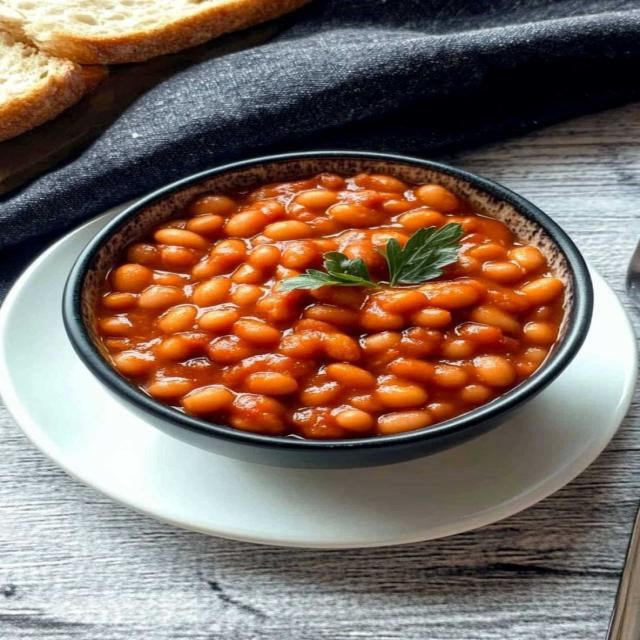beans: (96, 172, 563, 440), (420, 282, 478, 309), (376, 380, 428, 408), (182, 387, 233, 415), (470, 305, 520, 333), (207, 336, 255, 364), (474, 355, 515, 387), (486, 284, 531, 313), (399, 327, 442, 357), (256, 291, 297, 322), (234, 319, 281, 346), (378, 411, 432, 434), (326, 363, 376, 387), (344, 239, 384, 269), (376, 290, 426, 314), (112, 264, 153, 293), (360, 305, 404, 332), (328, 204, 379, 227), (246, 372, 297, 395), (310, 287, 363, 309), (415, 185, 458, 212), (520, 278, 563, 305), (225, 210, 267, 237), (192, 278, 231, 307), (472, 217, 512, 245), (157, 305, 197, 333), (389, 358, 434, 382), (282, 241, 319, 270), (198, 306, 239, 332), (304, 305, 357, 325), (138, 286, 184, 309), (398, 209, 446, 231), (155, 229, 207, 249), (323, 333, 360, 361), (457, 323, 502, 346), (278, 334, 323, 357), (147, 378, 194, 400), (155, 336, 196, 361), (114, 351, 154, 376), (300, 381, 341, 405), (264, 221, 312, 241), (212, 239, 246, 267), (189, 196, 235, 216), (509, 246, 545, 271), (335, 409, 374, 432), (161, 246, 198, 270), (483, 261, 523, 283), (432, 363, 468, 387), (191, 257, 228, 280), (410, 308, 451, 328), (295, 189, 336, 209), (362, 332, 401, 353), (127, 243, 159, 268), (248, 245, 281, 269), (368, 174, 408, 193), (186, 215, 224, 235), (524, 322, 557, 345), (231, 284, 263, 307), (371, 230, 409, 249), (441, 339, 475, 360), (468, 243, 507, 261), (348, 393, 384, 412), (254, 200, 285, 222), (99, 316, 133, 336), (294, 318, 339, 333), (426, 402, 460, 421), (461, 384, 493, 404), (102, 293, 136, 311), (232, 264, 264, 283), (312, 216, 342, 234), (383, 199, 415, 215), (456, 255, 481, 275), (154, 272, 189, 286), (317, 173, 344, 190), (526, 306, 553, 321), (524, 347, 547, 364), (312, 239, 338, 253), (275, 265, 300, 279)
